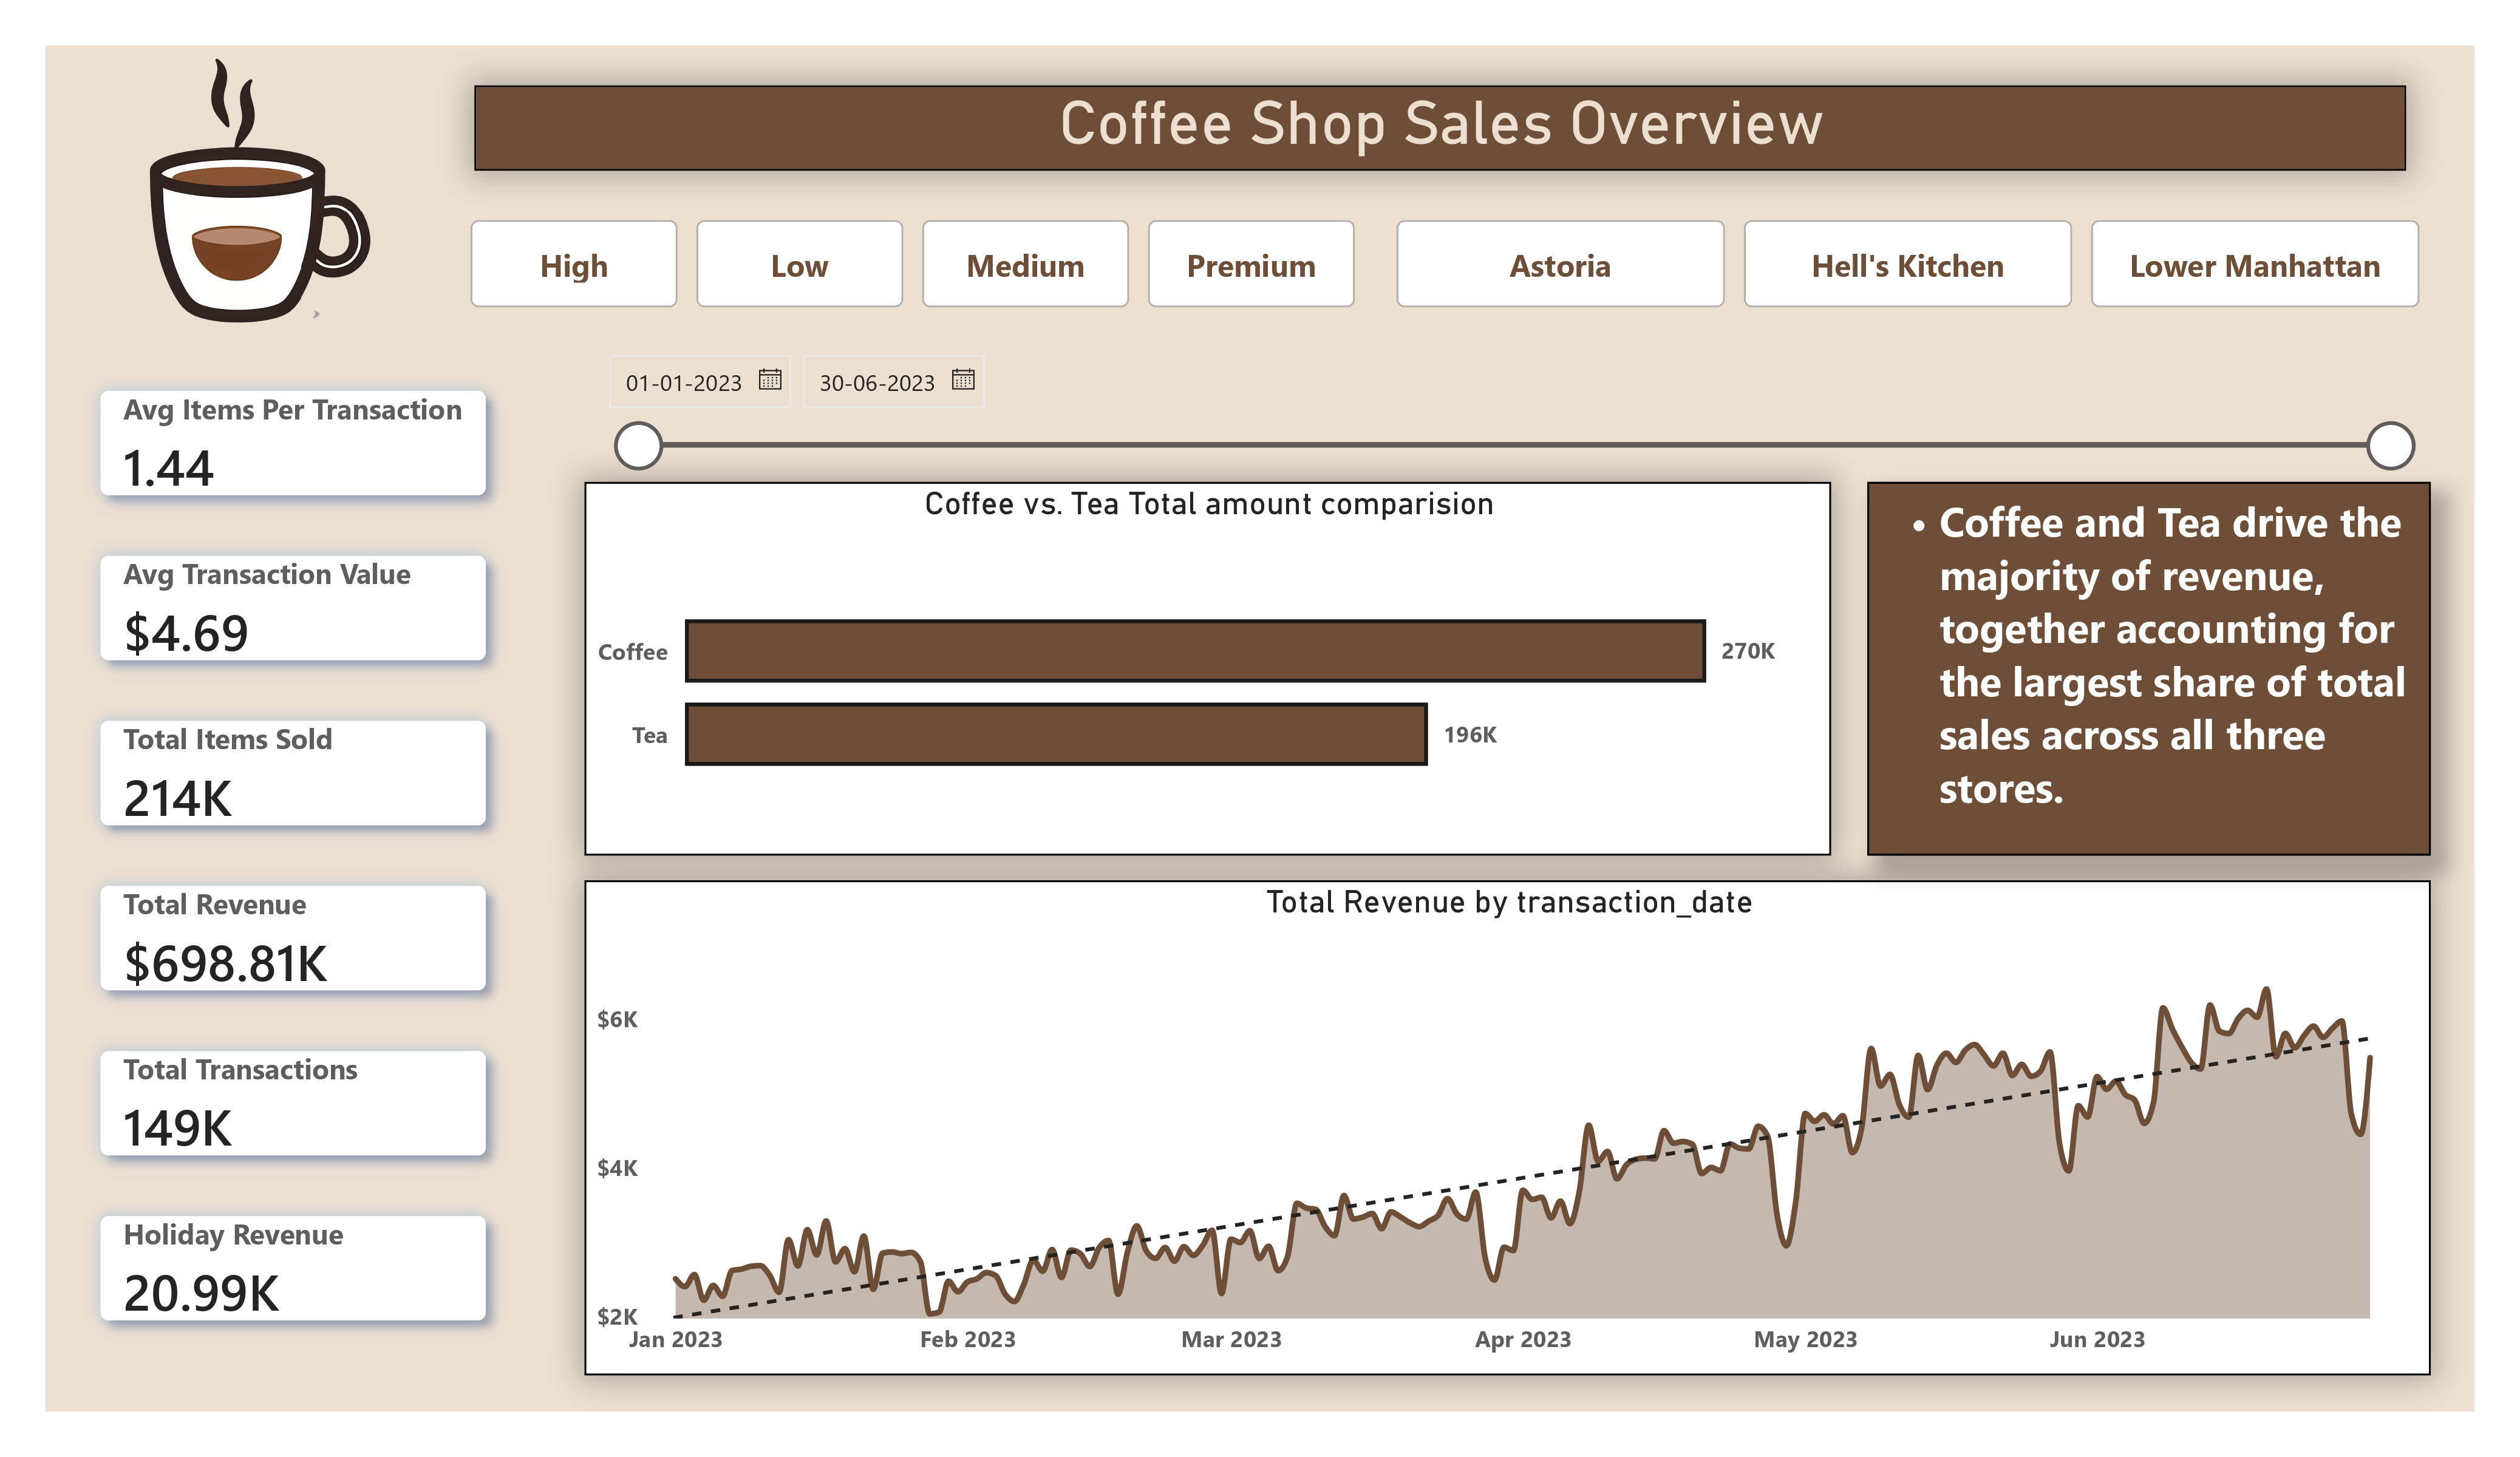

This screenshot's page, from the dashboard's own definition file:
{"tool":"powerbi","page":{"name":"Overview","canvas":[1280,720],"ordinal":0},"visuals":[{"type":"cardVisual","fields":{"Data":["_fact_sales.Avg Items Per Transaction","_fact_sales.Avg Transaction Value","_fact_sales.Total Items Sold","_fact_sales.Total Revenue","_fact_sales.Total Transactions","dim_time.Holiday Revenue"]},"box":[0,152.9,261.4,548.6],"z":0},{"type":"areaChart","fields":{"Category":["dim_date_new.transaction_date"],"Y":["_fact_sales.Total Revenue"]},"box":[284.3,440,972.9,261.4],"z":1000},{"type":"clusteredBarChart","title":"Coffee vs. Tea Total amount comparision","fields":{"Category":["dim_product.product_category"],"Y":["Sum(_fact_sales.total_amount)"]},"box":[284.3,230,657.1,197.1],"z":2000},{"type":"advancedSlicerVisual","fields":{"Values":["dim_store.store_location"]},"box":[707.1,87.1,550,55.7],"z":3000},{"type":"textbox","title":"Coffee Shop Sales Overview","box":[225.7,20.6,1018.5,45.4],"z":4000},{"type":"textbox","box":[960,230,297.1,197.1],"z":6000},{"type":"advancedSlicerVisual","fields":{"Values":["dim_product.price_tier"]},"box":[218.6,87.1,478.6,55.7],"z":6001},{"type":"slicer","fields":{"Values":["dim_date_new.transaction_date"]},"box":[284.3,152.9,972.9,77.1],"z":6002},{"type":"image","box":[0,0,225.7,152.8],"z":6003}]}

Visuals, with their boxes on the page's 1280x720 design canvas (x1, y1, x2, y2). These are canvas units, not pixel positions in the 2520x1457 screenshot, which may show the page scaled, cropped or inside an application window:
cardVisual - _fact_sales.Avg Items Per Transaction x _fact_sales.Avg Transaction Value: select_region(0, 153, 261, 702)
areaChart - dim_date_new.transaction_date x _fact_sales.Total Revenue: select_region(284, 440, 1257, 701)
"Coffee vs. Tea Total amount comparision" clusteredBarChart: select_region(284, 230, 941, 427)
advancedSlicerVisual - dim_store.store_location: select_region(707, 87, 1257, 143)
"Coffee Shop Sales Overview" textbox: select_region(226, 21, 1244, 66)
textbox: select_region(960, 230, 1257, 427)
advancedSlicerVisual - dim_product.price_tier: select_region(219, 87, 697, 143)
slicer - dim_date_new.transaction_date: select_region(284, 153, 1257, 230)
image: select_region(0, 0, 226, 153)
